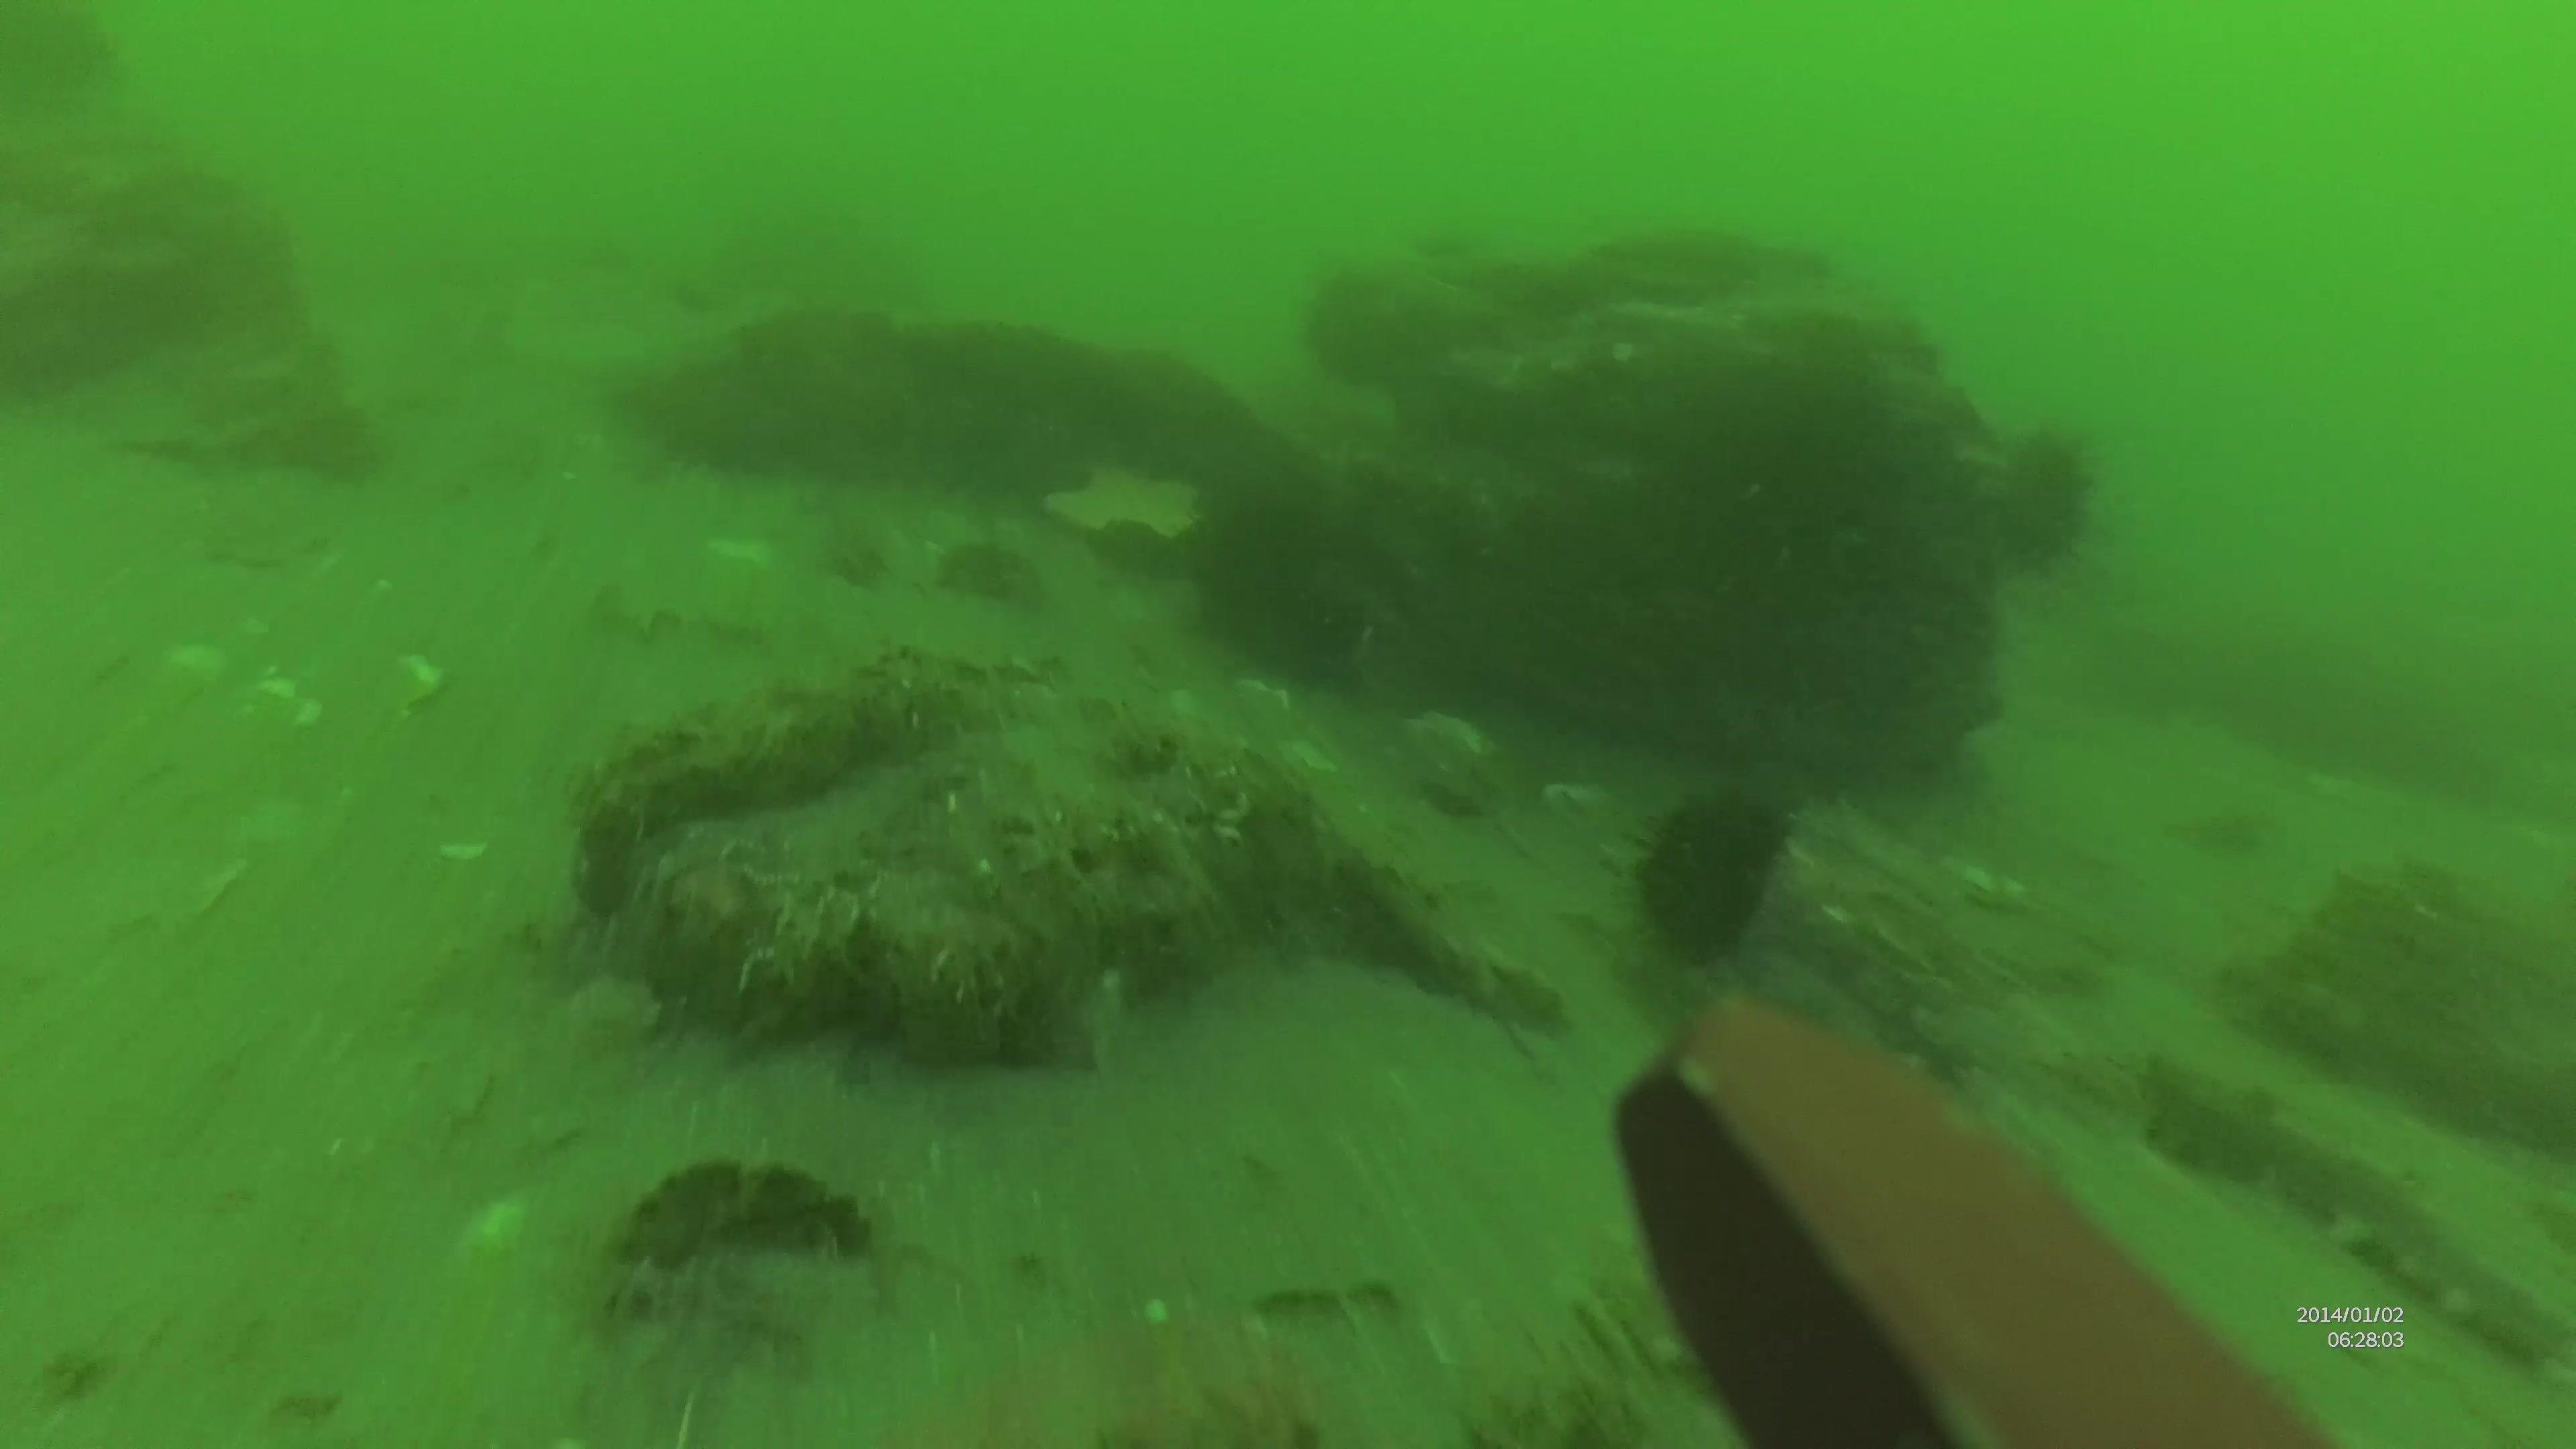echinus: (1622, 787, 1828, 970), (1967, 412, 2109, 582)
holothurian: (2128, 1028, 2576, 1366)
